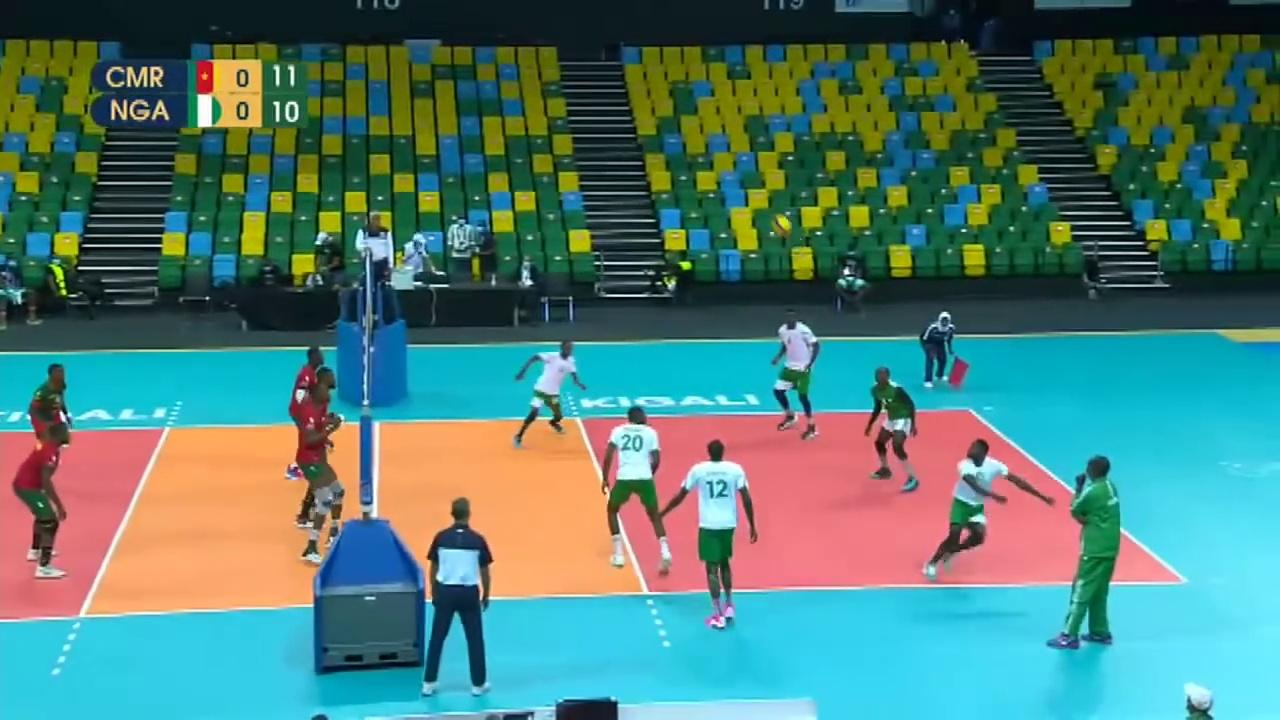player: (667, 439, 761, 630), (925, 441, 1021, 580), (601, 406, 664, 572), (14, 424, 74, 577), (299, 389, 346, 568), (511, 335, 584, 445), (867, 365, 923, 492), (298, 365, 342, 526), (770, 309, 820, 439), (281, 344, 331, 458), (29, 364, 74, 482)
refree: (416, 493, 497, 701), (358, 211, 396, 323), (920, 309, 957, 391)
